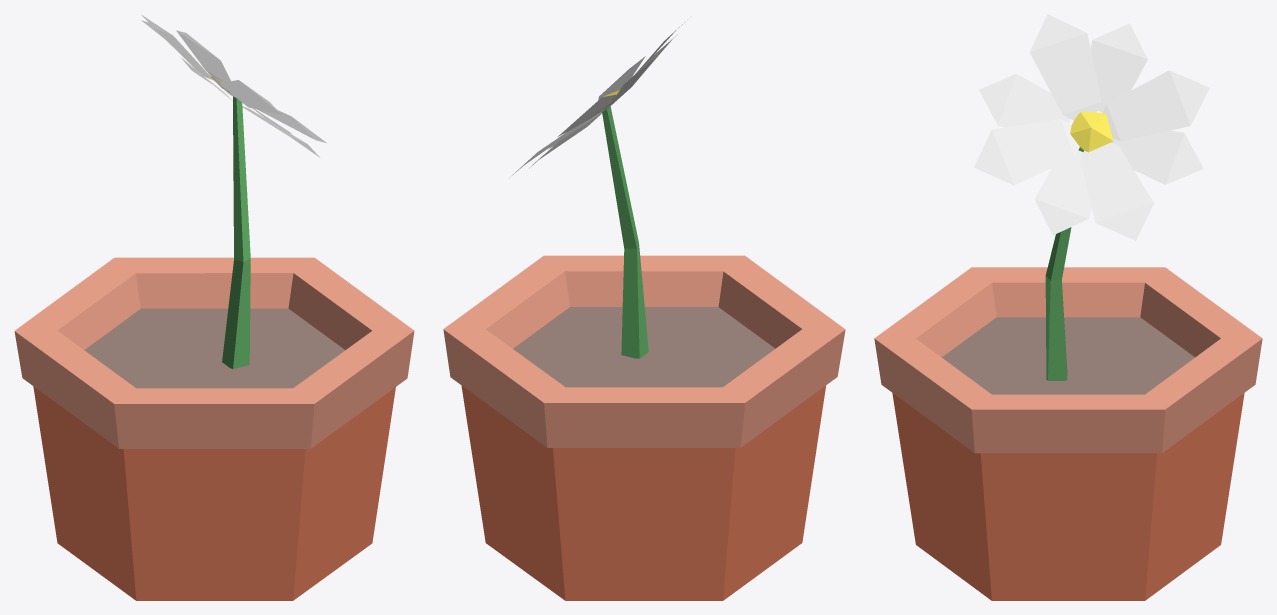
Rendered from Plants_M10.fbx.
3 views of the same model, side by side, from view 1: azimuth 30°, elevation 25°; view 2: azimuth 150°, elevation 25°; view 3: azimuth 270°, elevation 25° (orthographic). The views are drawn at different scales.
Visible parts, largest first — view 1: Plants_M10; view 2: Plants_M10; view 3: Plants_M10.
Boxes of the visible parts, <box> form: Plants_M10: <box>14,15,414,600</box>; Plants_M10: <box>443,22,845,600</box>; Plants_M10: <box>874,14,1262,600</box>.
Bounding box in the file's own units: 0.0811 × 0.1361 × 0.0935.
1 material, 1 textured.
